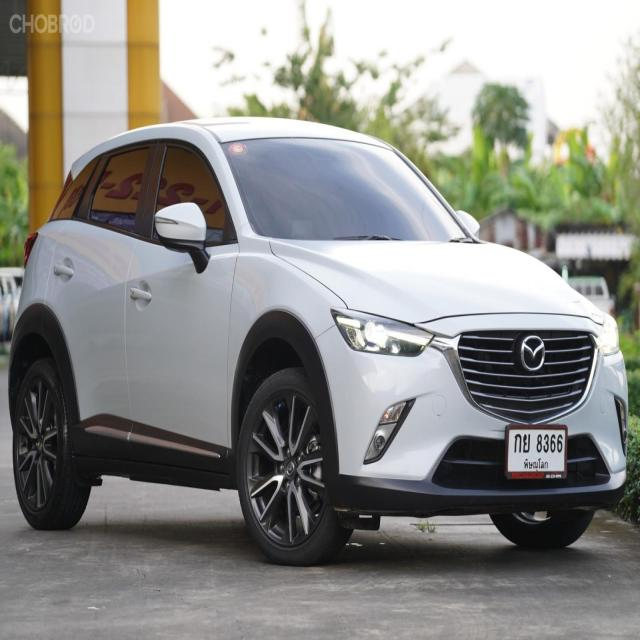license_plate: (505, 423, 568, 478)
